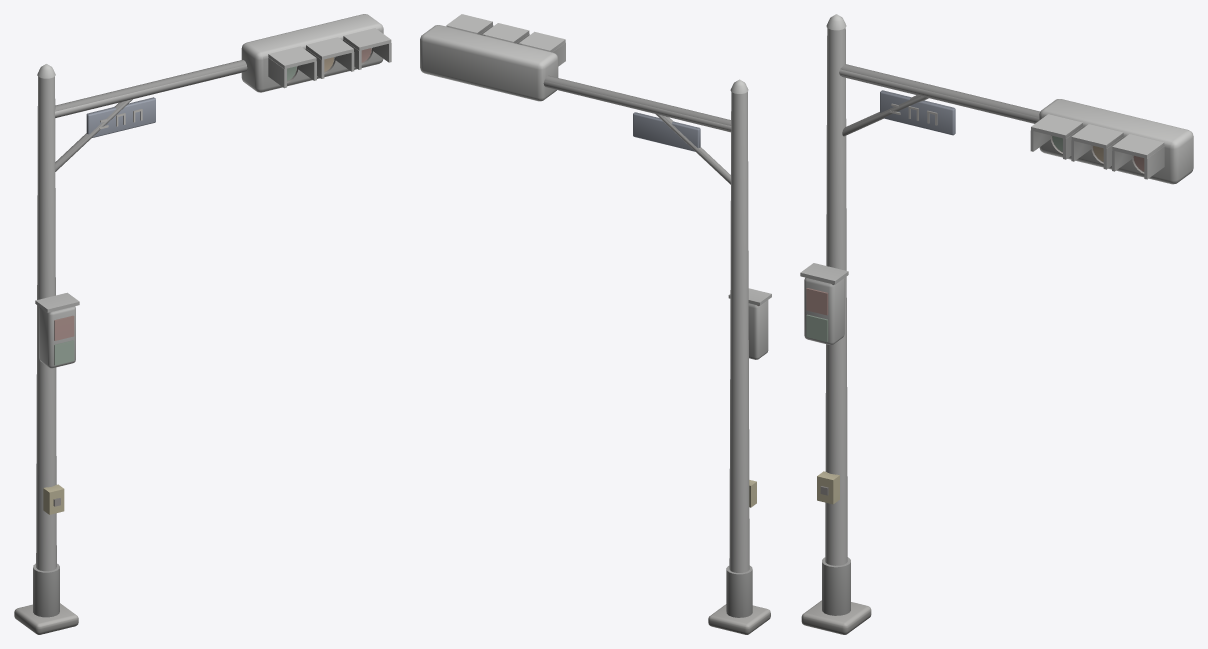
The model's file is signal.glb.
The picture shows the model from 3 angles, left to right: view 1: azimuth 30°, elevation 25°; view 2: azimuth 150°, elevation 25°; view 3: azimuth 330°, elevation 25°; orthographic projection. The views are drawn at different scales.
Visible parts, largest first — view 1: signal.001; view 2: signal.001; view 3: signal.001.
Part boxes in pixels (x1=…): signal.001: x1=14, y1=14, x2=391, y2=634; signal.001: x1=420, y1=14, x2=771, y2=634; signal.001: x1=800, y1=14, x2=1193, y2=634.
Size of the model in its own units: 3.25 by 5 by 0.68.
